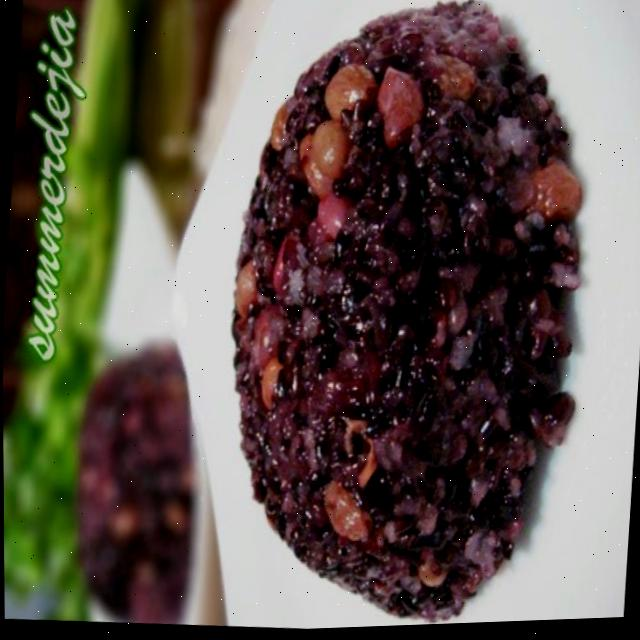米饭主食: (186, 0, 611, 635)
